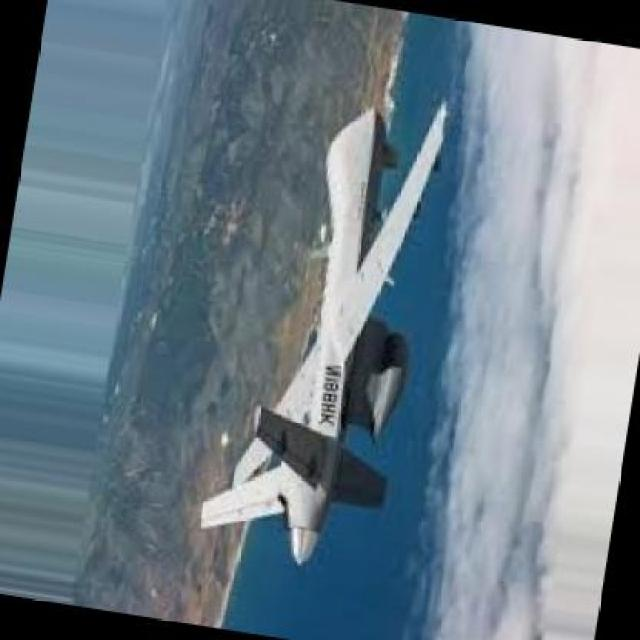iha: (197, 91, 453, 561)
